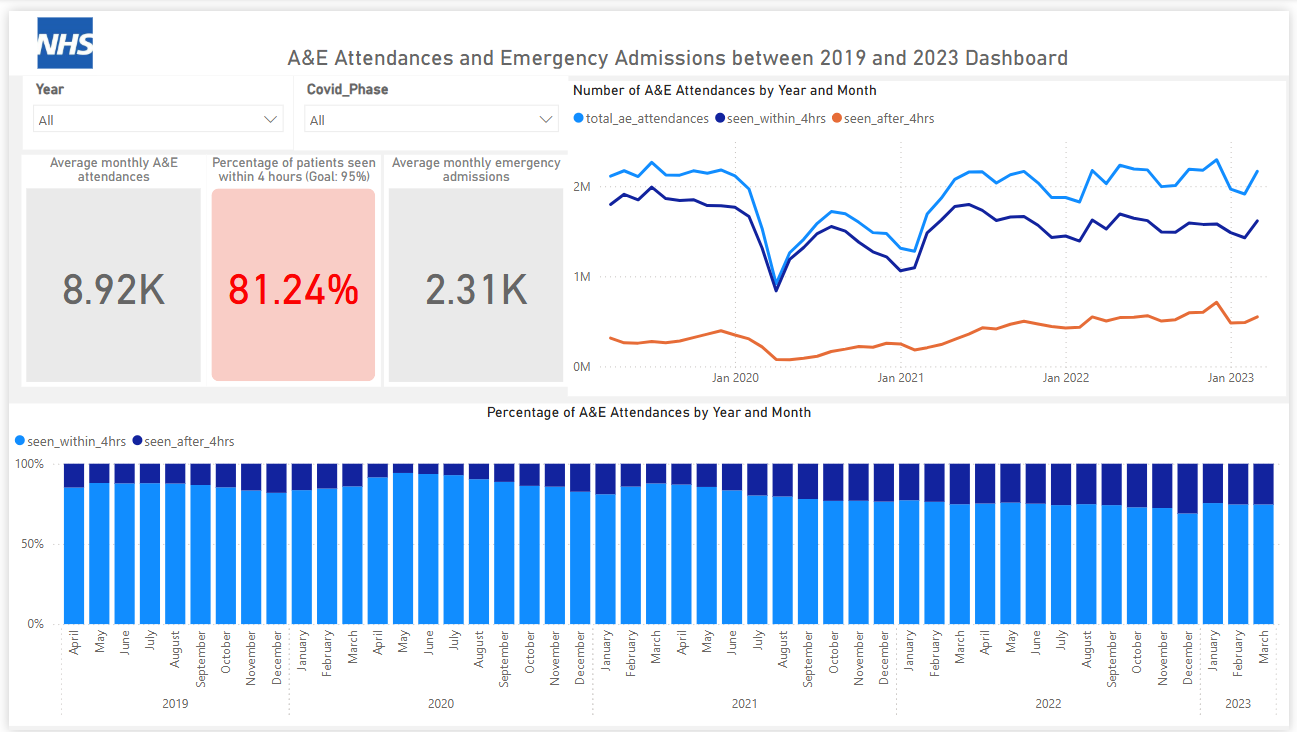

The page's visual inventory and layout, read from the dashboard file:
{"tool":"powerbi","page":{"name":"Overview","canvas":[1280,720],"ordinal":0},"visuals":[{"type":"lineChart","title":"Number of A&E Attendances by Year and Month","fields":{"Y":["_measures.total_ae_attendances","_measures.seen_within_4hrs","_measures.seen_after_4hrs"],"Category":["public dim_date.attendance_date.Variation.Date Hierarchy.Year","public dim_date.attendance_date.Variation.Date Hierarchy.Month"]},"box":[559.2,70.4,718.3,315.5],"z":0},{"type":"cardVisual","title":"Average monthly A&E attendances","fields":{"Data":["_measures.avg_total_ae_attendances"]},"box":[12.7,143.7,184.5,232.4],"z":1000},{"type":"slicer","fields":{"Values":["public dim_covid_period.period_label"]},"box":[284.5,64.8,274.6,74.6],"z":3000},{"type":"slicer","fields":{"Values":["public dim_date.fiscal_year"]},"box":[14.1,64.8,270.4,73.2],"z":4000},{"type":"cardVisual","title":"Percentage of patients seen within 4 hours (Goal: 95%)","fields":{"Data":["_measures.pcnt_seen_within_4hrs"]},"box":[197.2,143.7,174.6,232.4],"z":6000},{"type":"hundredPercentStackedColumnChart","title":"Percentage of A&E Attendances by Year and Month","fields":{"Category":["public dim_date.attendance_date.Variation.Date Hierarchy.Year","public dim_date.attendance_date.Variation.Date Hierarchy.Month"],"Y":["_measures.seen_within_4hrs","_measures.seen_after_4hrs"]},"box":[0,393,1280,322.5],"z":8000},{"type":"image","box":[23.4,0,64.9,63.6],"z":9000},{"type":"cardVisual","title":"A&E Attendances and Emergency Admissions between 2019 and 2023 Dashboard","fields":{"Data":["Sum(public fact_aande_data.seen_within_4hrs)"]},"box":[88.8,33.8,1160,30],"z":10000},{"type":"cardVisual","title":"Average monthly emergency admissions","fields":{"Data":["_measures.Avg_emergency_admissions"]},"box":[374.6,143.7,184.5,232.4],"z":11001}]}

Visuals, with their boxes in screenshot pixels (x1, y1, x2, y2), scaled from the page's 1280x720 canvas onto the 1297x732 screenshot:
"Number of A&E Attendances by Year and Month" lineChart: Rect(567, 72, 1294, 392)
"Average monthly A&E attendances" cardVisual: Rect(13, 146, 200, 382)
slicer - public dim_covid_period.period_label: Rect(288, 66, 567, 142)
slicer - public dim_date.fiscal_year: Rect(14, 66, 288, 140)
"Percentage of patients seen within 4 hours (Goal: 95%)" cardVisual: Rect(200, 146, 377, 382)
"Percentage of A&E Attendances by Year and Month" hundredPercentStackedColumnChart: Rect(0, 400, 1296, 727)
image: Rect(24, 0, 89, 65)
"A&E Attendances and Emergency Admissions between 2019 and 2023 Dashboard" cardVisual: Rect(90, 34, 1265, 65)
"Average monthly emergency admissions" cardVisual: Rect(380, 146, 567, 382)
